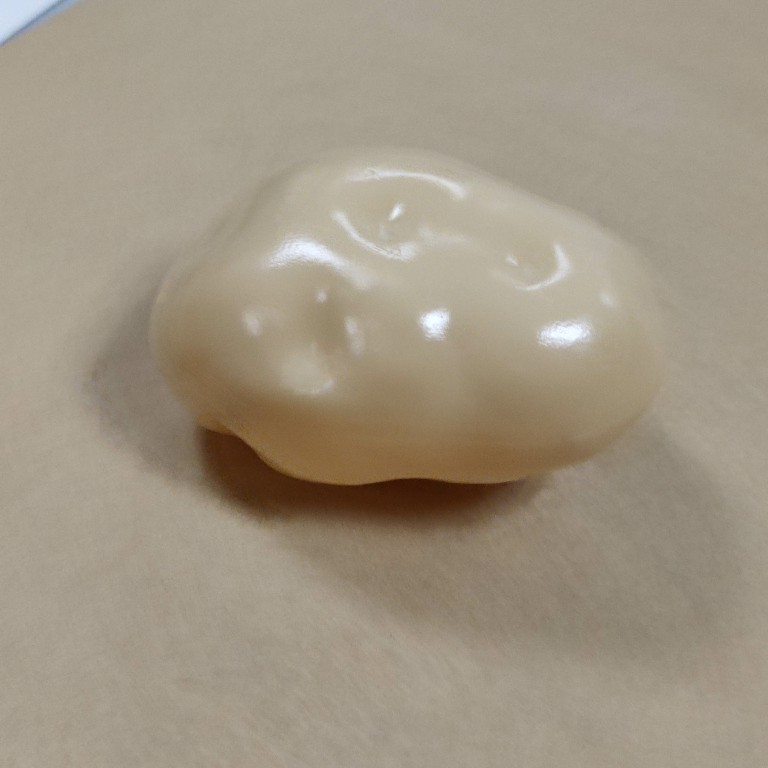fruit_potato: (140, 139, 687, 487)
